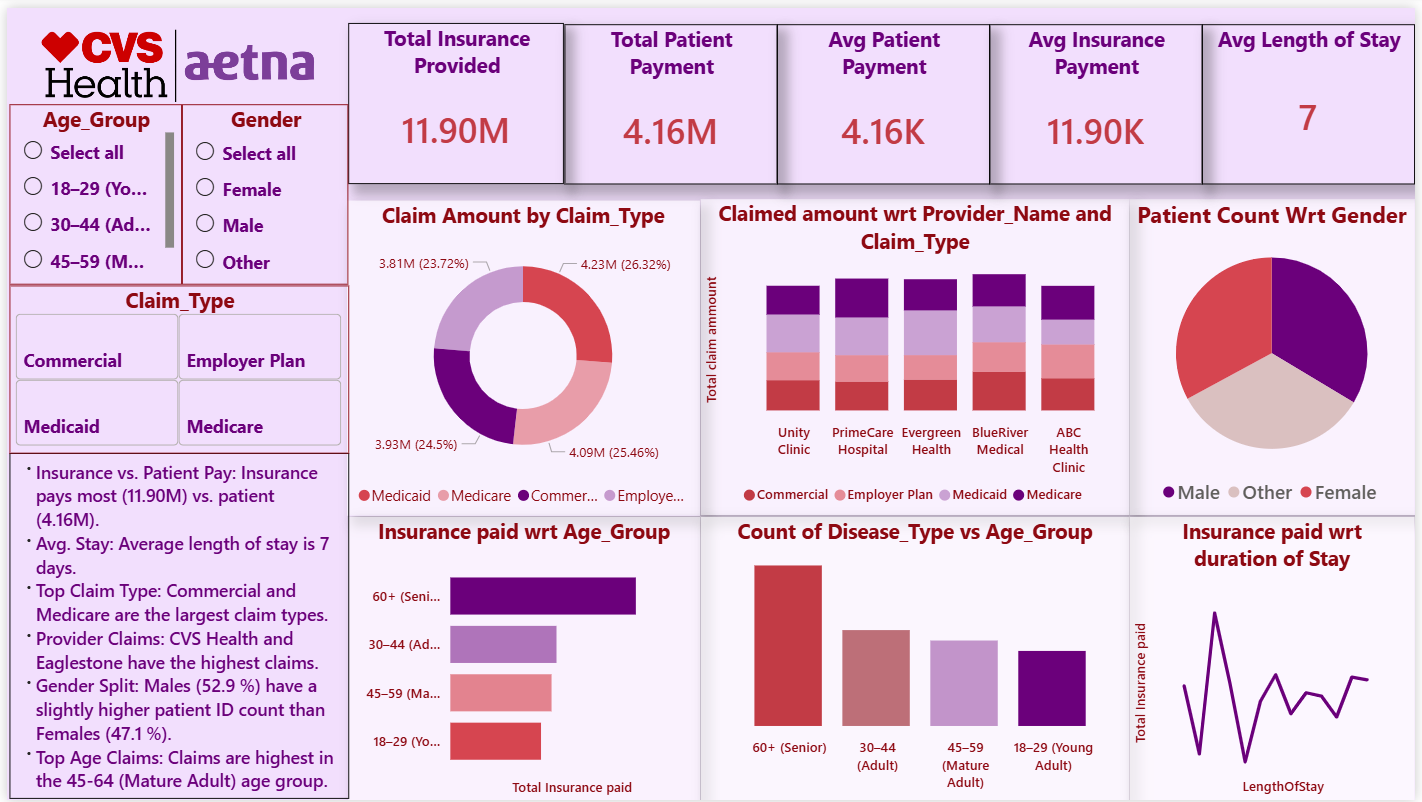

The page's visual inventory and layout, read from the dashboard file:
{"tool":"powerbi","page":{"name":"Page 1","canvas":[1280,720],"ordinal":0},"visuals":[{"type":"image","box":[0,14.1,310.3,78.2],"z":0},{"type":"cardVisual","title":"Total Insurance Provided","fields":{"Data":["healthcare.Total Insurance paid"]},"box":[310.3,14.1,196.2,146.2],"z":1000},{"type":"cardVisual","title":"Total Patient Payment","fields":{"Data":["healthcare.total patient payment"]},"box":[506.4,14.4,193.3,145.7],"z":2000},{"type":"donutChart","title":" Claim Amount by Claim_Type","fields":{"Category":["healthcare.Claim_Type"],"Y":["healthcare.Total claim ammount"]},"box":[309.6,174.7,320.5,286.7],"z":6000},{"type":"columnChart","title":" Claimed amount wrt Provider_Name and Claim_Type","fields":{"Category":["healthcare.Provider_Name"],"Y":["healthcare.Total claim ammount"],"Series":["healthcare.Claim_Type"]},"box":[630.8,174.4,389.7,287.2],"z":7000},{"type":"barChart","title":" Insurance paid wrt Age_Group","fields":{"Category":["healthcare.Age_Group"],"Y":["healthcare.Total Insurance paid"]},"box":[310.1,462.1,319.7,258.2],"z":8000},{"type":"columnChart","title":"Count of Disease_Type vs Age_Group","fields":{"Category":["healthcare.Age_Group"],"Y":["CountNonNull(healthcare.Disease_Type)"]},"box":[630.6,463,389.8,257.4],"z":9000},{"type":"pieChart","title":"Patient Count Wrt Gender","fields":{"Category":["healthcare.Gender"],"Y":["CountNonNull(healthcare.Patient_ID)"]},"box":[1020.5,174.4,259,287.2],"z":10000},{"type":"lineChart","title":" Insurance paid wrt duration of Stay ","fields":{"Category":["healthcare.LengthOfStay"],"Y":["healthcare.Total Insurance paid"]},"box":[1020.5,462.8,259,257.7],"z":11000},{"type":"cardVisual","title":"Avg Patient Payment","fields":{"Data":["healthcare.avg patient payment"]},"box":[699.7,14.4,193.3,145.7],"z":11001},{"type":"cardVisual","title":"Avg Insurance Payment","fields":{"Data":["healthcare.avg insurance amount"]},"box":[893.1,14.4,193.3,145.7],"z":11002},{"type":"cardVisual","title":"Avg Length of Stay","fields":{"Data":["healthcare.avg Length of stay"]},"box":[1086.4,14.4,193.3,145.7],"z":11003},{"type":"textbox","box":[2.4,404.8,308.4,314.5],"z":11004},{"type":"listSlicer","fields":{"Values":["healthcare.Age_Group"]},"box":[2.6,87.2,156.4,164.1],"z":11005},{"type":"listSlicer","fields":{"Values":["healthcare.Gender"]},"box":[159,87.2,151.3,164.1],"z":11006},{"type":"advancedSlicerVisual","fields":{"Values":["healthcare.Claim_Type"]},"box":[2.4,251.8,308.4,153],"z":11007}]}

Visuals, with their boxes in screenshot pixels (x1, y1, x2, y2), scaled from the page's 1280x720 canvas onto the 1422x802 screenshot:
image: (0, 16, 345, 103)
"Total Insurance Provided" cardVisual: (345, 16, 563, 179)
"Total Patient Payment" cardVisual: (563, 16, 777, 178)
" Claim Amount by Claim_Type" donutChart: (344, 195, 700, 514)
" Claimed amount wrt Provider_Name and Claim_Type" columnChart: (701, 194, 1134, 514)
" Insurance paid wrt Age_Group" barChart: (345, 515, 700, 801)
"Count of Disease_Type vs Age_Group" columnChart: (701, 516, 1134, 801)
"Patient Count Wrt Gender" pieChart: (1134, 194, 1421, 514)
" Insurance paid wrt duration of Stay " lineChart: (1134, 516, 1421, 801)
"Avg Patient Payment" cardVisual: (777, 16, 992, 178)
"Avg Insurance Payment" cardVisual: (992, 16, 1207, 178)
"Avg Length of Stay" cardVisual: (1207, 16, 1421, 178)
textbox: (3, 451, 345, 801)
listSlicer - healthcare.Age_Group: (3, 97, 177, 280)
listSlicer - healthcare.Gender: (177, 97, 345, 280)
advancedSlicerVisual - healthcare.Claim_Type: (3, 280, 345, 451)
